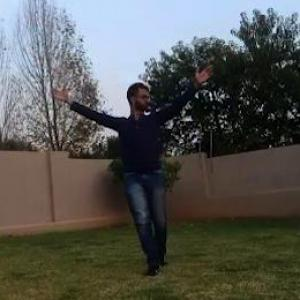takeoff: (53, 55, 223, 269)
